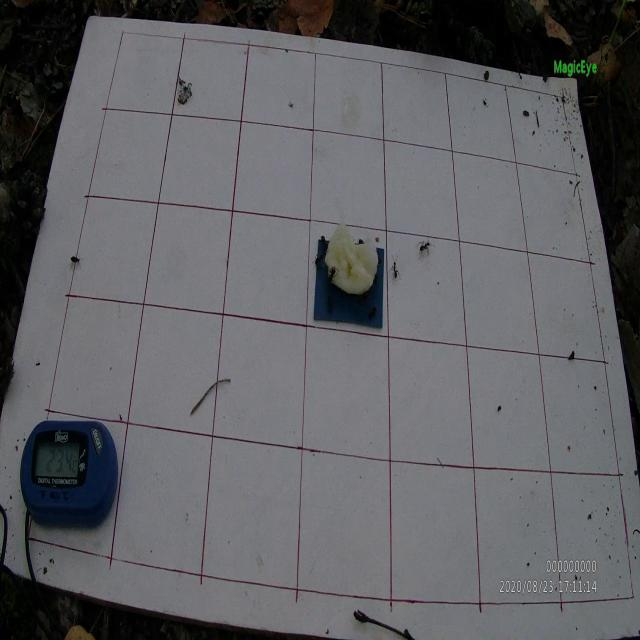Ant: (416, 238, 436, 260), (389, 254, 402, 282), (312, 250, 327, 269), (326, 267, 338, 288)
